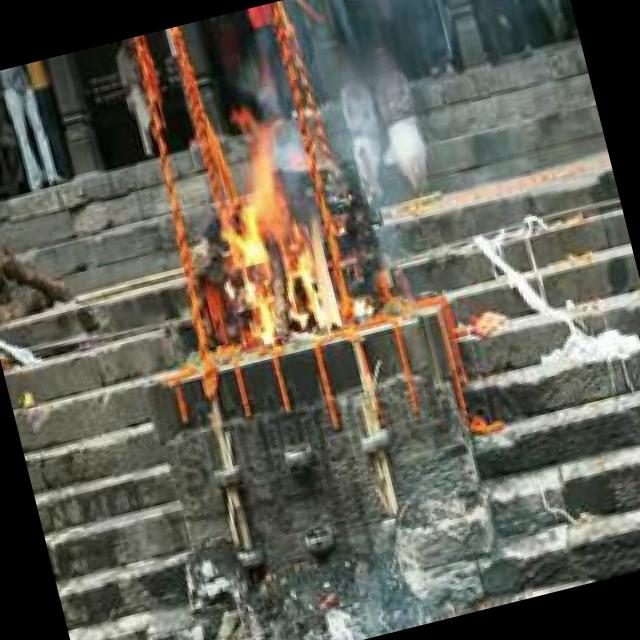Fire: (196, 116, 347, 351)
